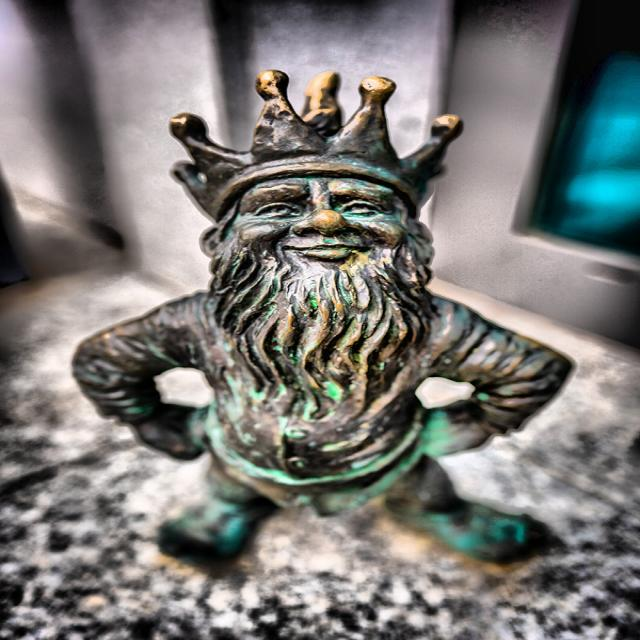Koronus: (73, 70, 576, 564)
